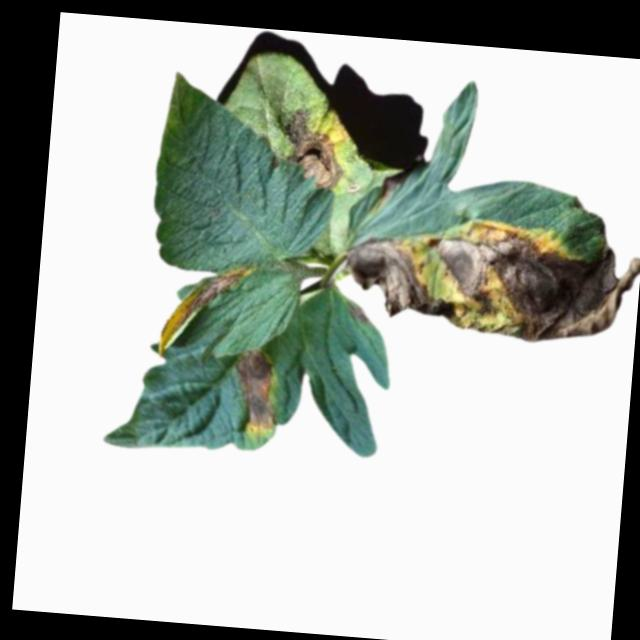Early_blight: (339, 208, 640, 351), (158, 263, 251, 359), (271, 109, 349, 193), (229, 346, 284, 434), (376, 178, 396, 208)
